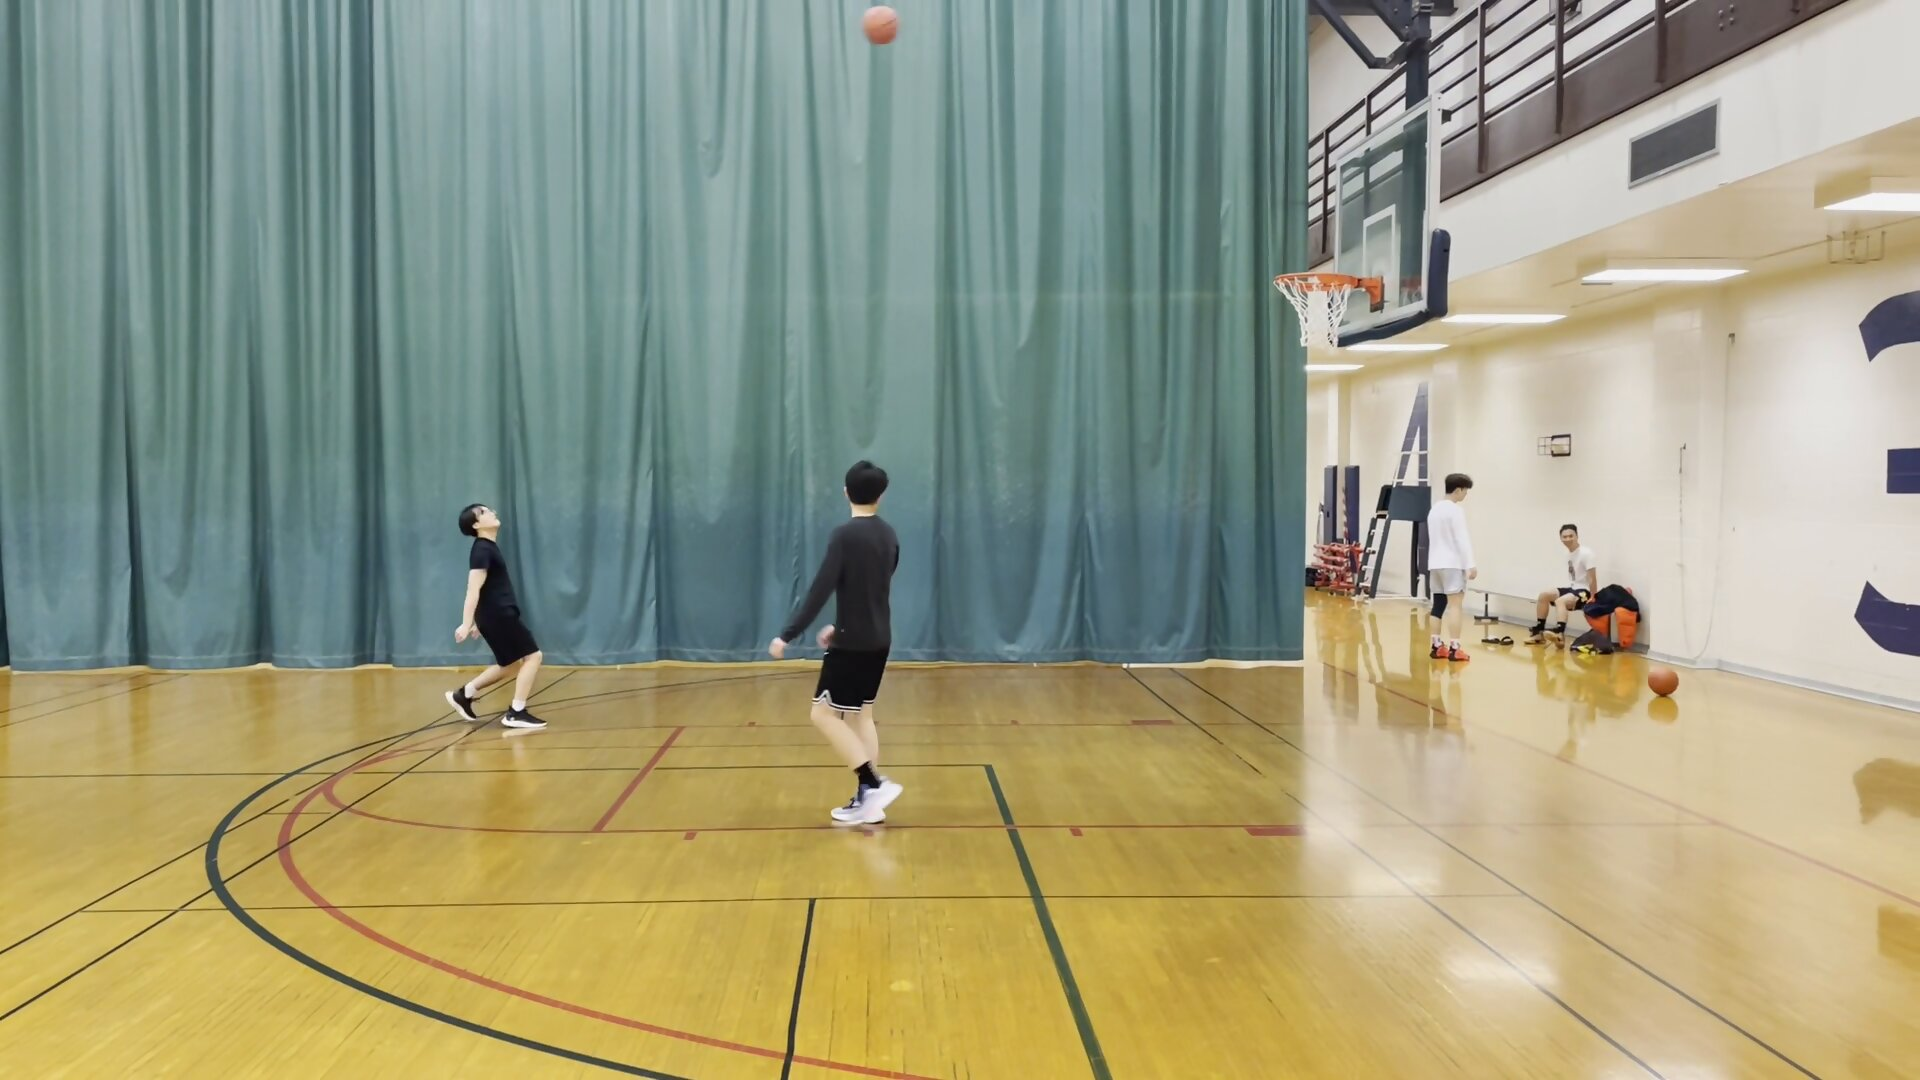ball: (859, 7, 902, 48), (1649, 665, 1679, 696)
net: (1295, 324, 1343, 355)
player: (783, 459, 903, 832), (448, 501, 553, 735), (1421, 469, 1481, 668), (1526, 520, 1605, 651)
rim: (1269, 268, 1364, 297)
